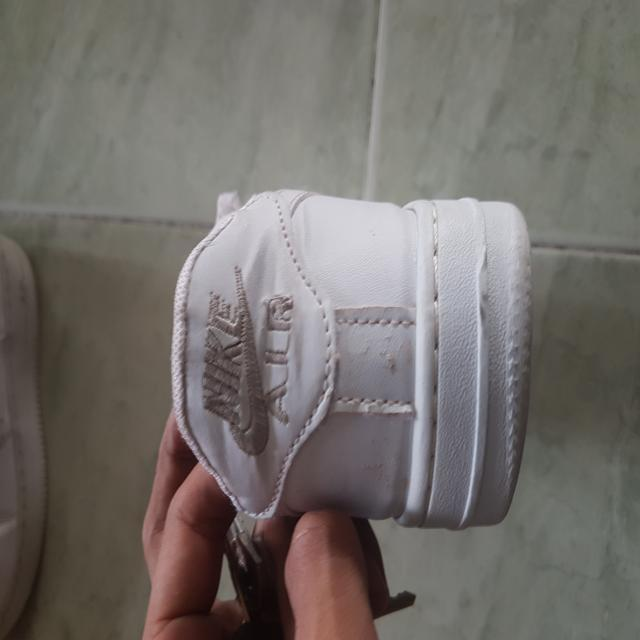nike fake air force: (166, 187, 536, 528)
